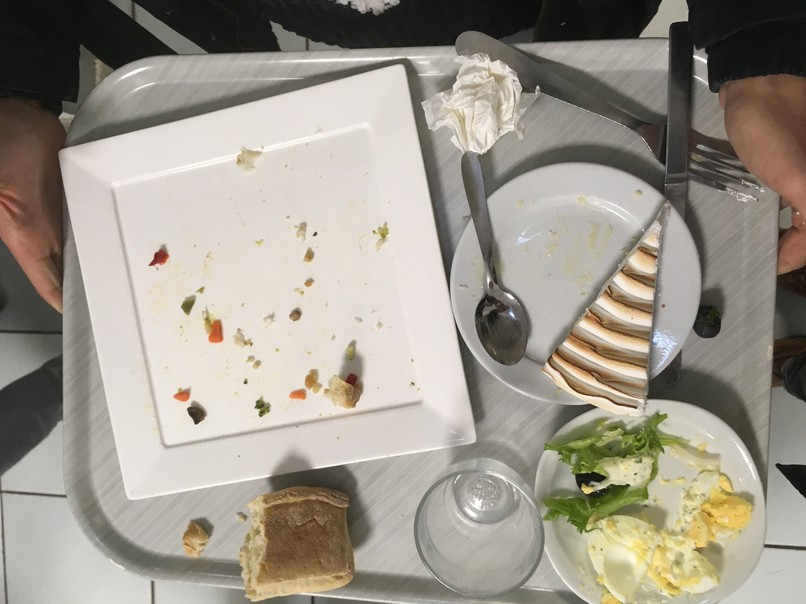cup: (423, 447, 541, 604)
cutlery: (452, 27, 766, 215), (451, 149, 536, 377), (656, 19, 698, 218)
orga: (552, 242, 652, 411), (230, 492, 366, 583), (584, 527, 720, 604), (569, 419, 656, 520), (697, 470, 747, 547)
trash: (424, 48, 530, 148)
